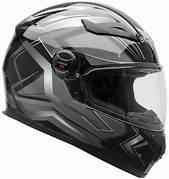Helmet: (4, 2, 163, 177)
